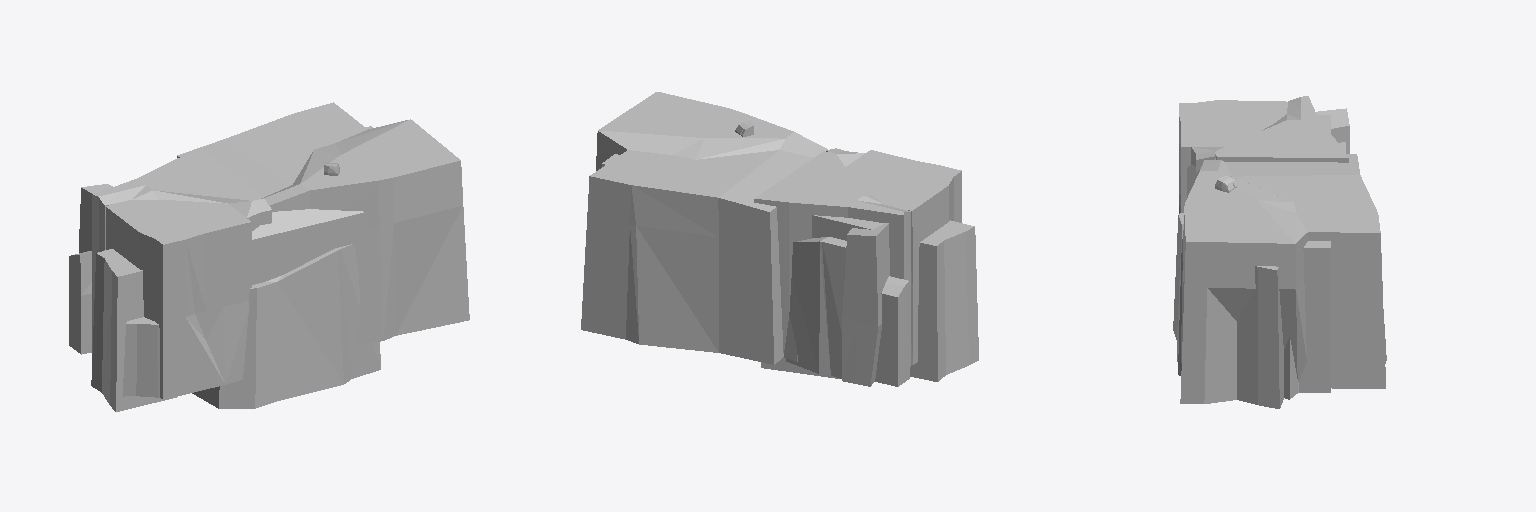
The model's file is cliff_1100_0000.obj.
3 renders of one model, left to right at view 1: azimuth 30°, elevation 25°; view 2: azimuth 150°, elevation 25°; view 3: azimuth 270°, elevation 25°, orthographic.
Parts seen in each view (by area): view 1: tile_1100_0000; view 2: tile_1100_0000; view 3: tile_1100_0000.
Part boxes in pixels (x1,y1,x2,y2): tile_1100_0000: (69, 102, 469, 411); tile_1100_0000: (581, 92, 978, 386); tile_1100_0000: (1173, 96, 1386, 408).
Bounding box in the file's own units: 2.53 × 1.38 × 1.34.